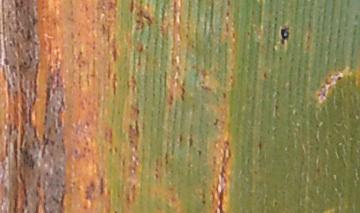tarspot: (279, 24, 291, 45), (138, 9, 152, 27), (109, 32, 117, 63), (197, 79, 213, 94), (128, 102, 141, 116), (133, 119, 141, 137), (135, 18, 146, 31), (179, 86, 187, 102), (19, 27, 27, 42), (178, 132, 185, 146), (163, 150, 169, 166), (128, 1, 135, 14), (13, 1, 24, 9), (167, 94, 175, 105), (188, 131, 193, 148), (25, 28, 32, 40), (137, 42, 144, 54), (2, 57, 10, 67), (262, 70, 270, 80), (212, 117, 220, 126), (222, 139, 230, 148), (221, 90, 228, 100), (224, 21, 229, 34), (335, 75, 344, 82), (195, 148, 202, 157), (256, 140, 262, 150), (72, 147, 79, 155), (200, 199, 207, 206), (225, 1, 232, 8), (273, 103, 279, 111), (224, 10, 230, 18), (272, 200, 278, 208), (153, 172, 159, 180), (21, 60, 27, 67), (77, 49, 83, 56), (8, 42, 12, 47)
